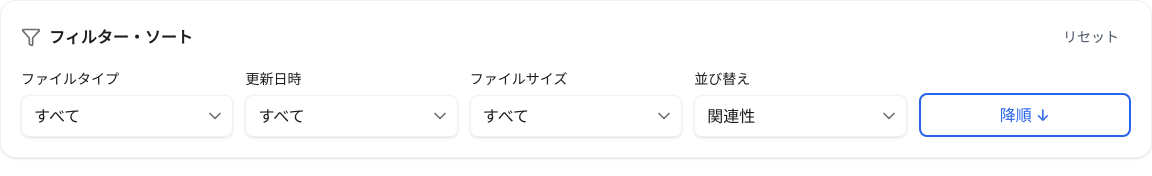
FilterPanel › リセット機能テスト › リセット後のソート順が降順に戻ること
ソート順を昇順に変更
Click the button "降順 ↓" at point(1025, 115), box [919,93,1131,137]
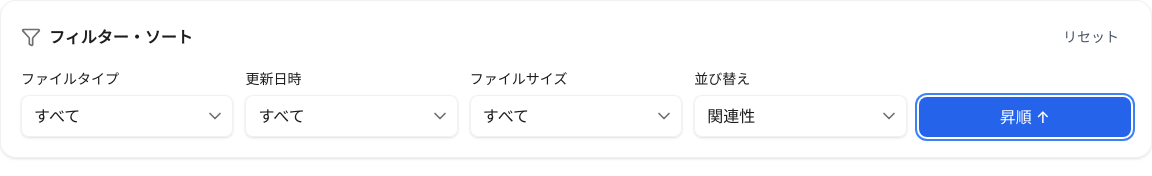
Act - リセット
Click the button "リセット" at point(1091, 37), box [1051,21,1131,53]
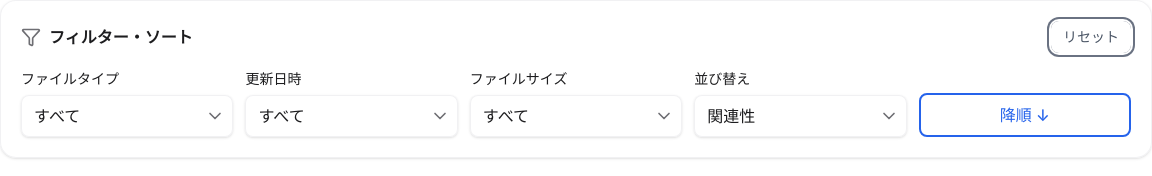
Check: the button "降順 ↓" is shown, box [919,93,1131,137]
